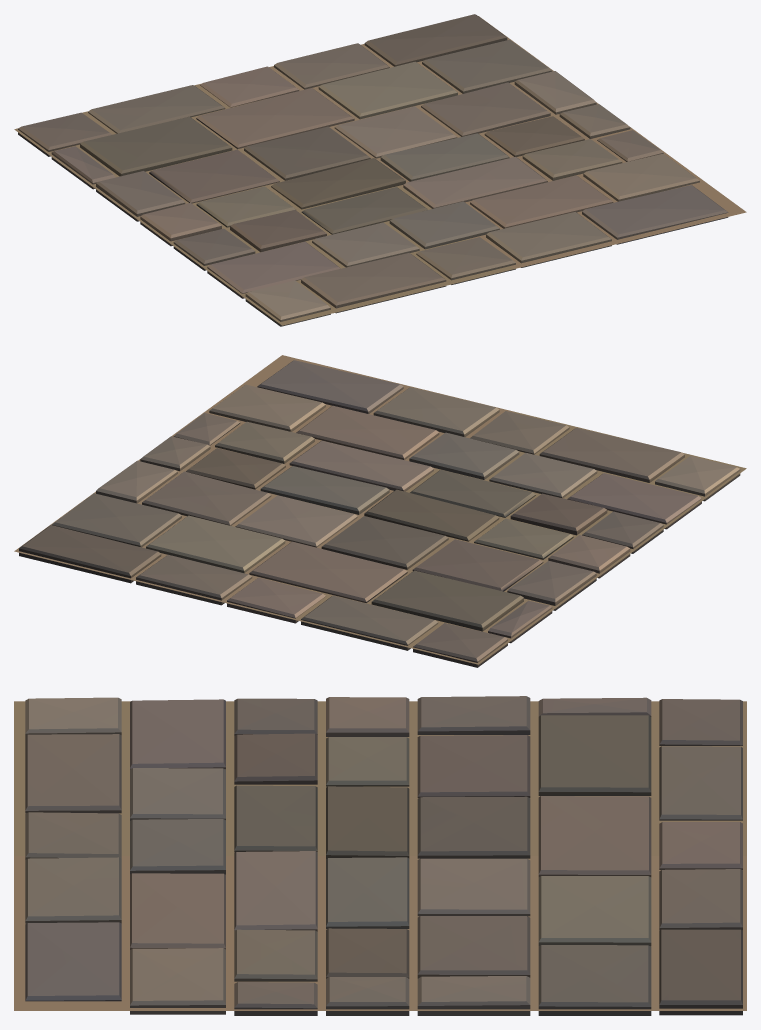
The model's file is losas_plaza_4x4.glb.
The picture shows the model from 3 angles, top to bottom: view 1: azimuth 30°, elevation 25°; view 2: azimuth 150°, elevation 25°; view 3: azimuth 270°, elevation 25°; orthographic projection. The views are drawn at different scales.
Visible parts, largest first — view 1: losas_plaza_4x4_piezas, losas_plaza_4x4_fijo; view 2: losas_plaza_4x4_piezas, losas_plaza_4x4_fijo; view 3: losas_plaza_4x4_piezas, losas_plaza_4x4_fijo.
Part boxes in pixels (x1,y1,x2,y2): losas_plaza_4x4_piezas: (18, 14, 728, 326); losas_plaza_4x4_fijo: (14, 16, 746, 325); losas_plaza_4x4_piezas: (19, 360, 740, 667); losas_plaza_4x4_fijo: (14, 355, 746, 664); losas_plaza_4x4_piezas: (25, 696, 742, 1015); losas_plaza_4x4_fijo: (14, 701, 746, 1010).
Bounding box in the file's own units: 4 × 0.0927 × 4.
